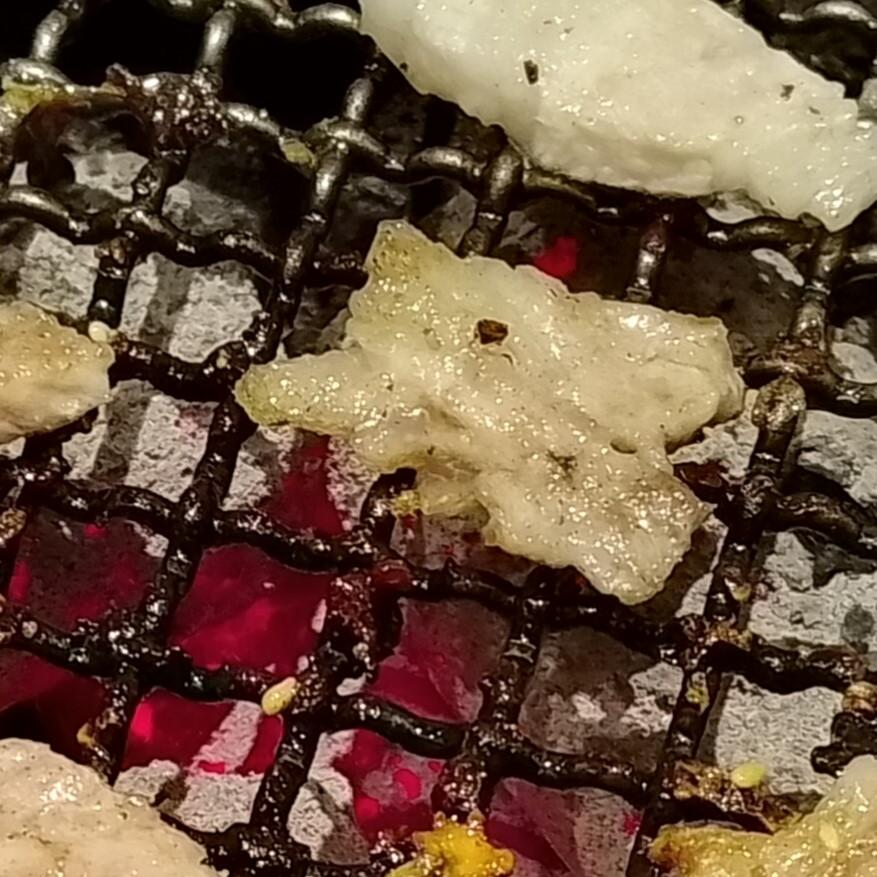Undercooked: (359, 0, 876, 232)
Well-Cooked: (233, 221, 747, 609)
